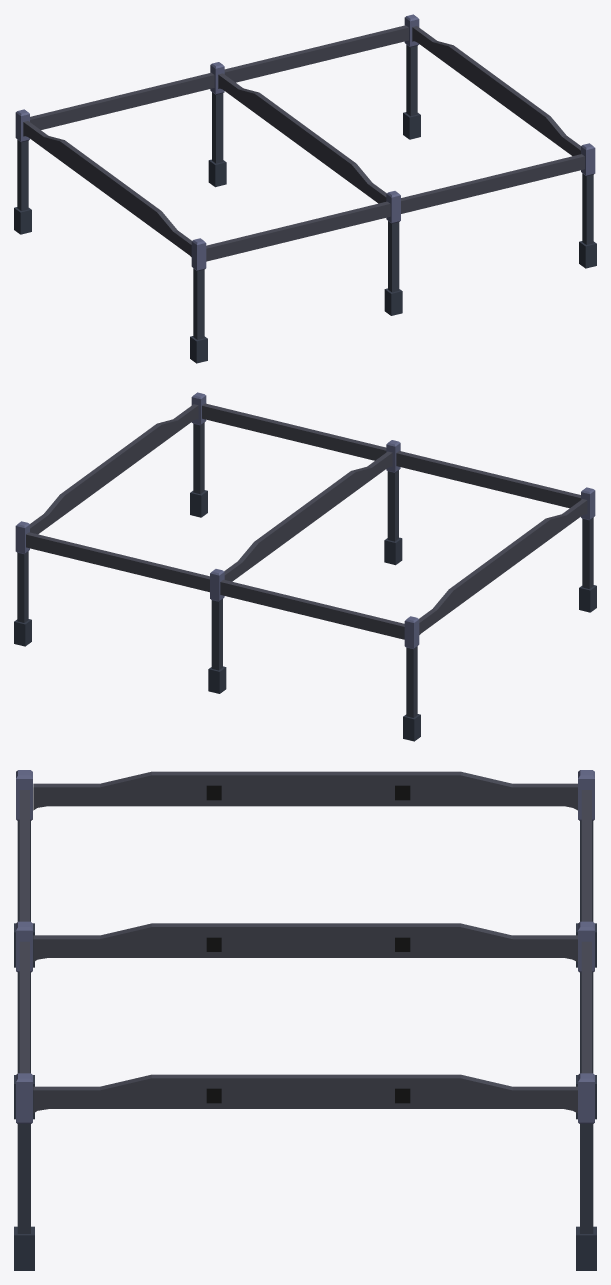
Rendered from Estructura.fbx.
3 renders of one model, top to bottom at view 1: azimuth 30°, elevation 25°; view 2: azimuth 150°, elevation 25°; view 3: azimuth 270°, elevation 25°, orthographic. The views are drawn at different scales.
Visible parts, largest first — view 1: Cubo.033, Cubo.027, Cubo.030, Cubo.038, Cubo.036, Cubo.039, Cubo.037, Cubo.025, Cubo.023, Cubo.021, Cubo.026, Cubo.024 (+1 smaller); view 2: Cubo.033, Cubo.027, Cubo.030, Cubo.039, Cubo.037, Cubo.038, Cubo.036, Cubo.026, Cubo.024, Cubo.022, Cubo.025, Cubo.023 (+1 smaller); view 3: Cubo.033, Cubo.030, Cubo.027, Cubo.021, Cubo.022, Cubo.036, Cubo.037, Cubo.038, Cubo.039, Cubo.023, Cubo.025, Cubo.024 (+1 smaller).
Part boxes in pixels (<box>): Cubo.033: <box>23,121,191,256</box>; Cubo.027: <box>412,26,580,156</box>; Cubo.030: <box>218,73,386,203</box>; Cubo.038: <box>206,201,390,261</box>; Cubo.036: <box>401,154,584,213</box>; Cubo.039: <box>30,72,214,129</box>; Cubo.037: <box>224,25,408,82</box>; Cubo.025: <box>190,238,207,363</box>; Cubo.023: <box>384,191,402,315</box>; Cubo.021: <box>579,143,596,268</box>; Cubo.026: <box>14,109,31,234</box>; Cubo.024: <box>208,62,226,187</box>; Cubo.033: <box>419,499,587,634</box>; Cubo.027: <box>30,404,198,534</box>; Cubo.030: <box>224,451,392,581</box>; Cubo.039: <box>220,579,404,639</box>; Cubo.037: <box>26,532,209,592</box>; Cubo.038: <box>396,451,580,508</box>; Cubo.036: <box>202,403,386,460</box>; Cubo.026: <box>403,616,420,741</box>; Cubo.024: <box>208,569,226,693</box>; Cubo.022: <box>14,521,31,646</box>; Cubo.025: <box>579,487,596,612</box>; Cubo.023: <box>384,440,402,565</box>; Cubo.033: <box>33,771,577,810</box>; Cubo.030: <box>33,923,577,961</box>; Cubo.027: <box>33,1074,577,1113</box>; Cubo.021: <box>14,1073,34,1270</box>; Cubo.022: <box>576,1073,596,1270</box>; Cubo.036: <box>19,941,29,1073</box>; Cubo.037: <box>581,941,591,1073</box>; Cubo.038: <box>19,790,29,921</box>; Cubo.039: <box>581,790,591,921</box>; Cubo.023: <box>14,921,34,1119</box>; Cubo.025: <box>14,770,34,967</box>; Cubo.024: <box>576,921,596,1119</box>.
Size of the model in its own units: 6557 by 1852 by 5136.
